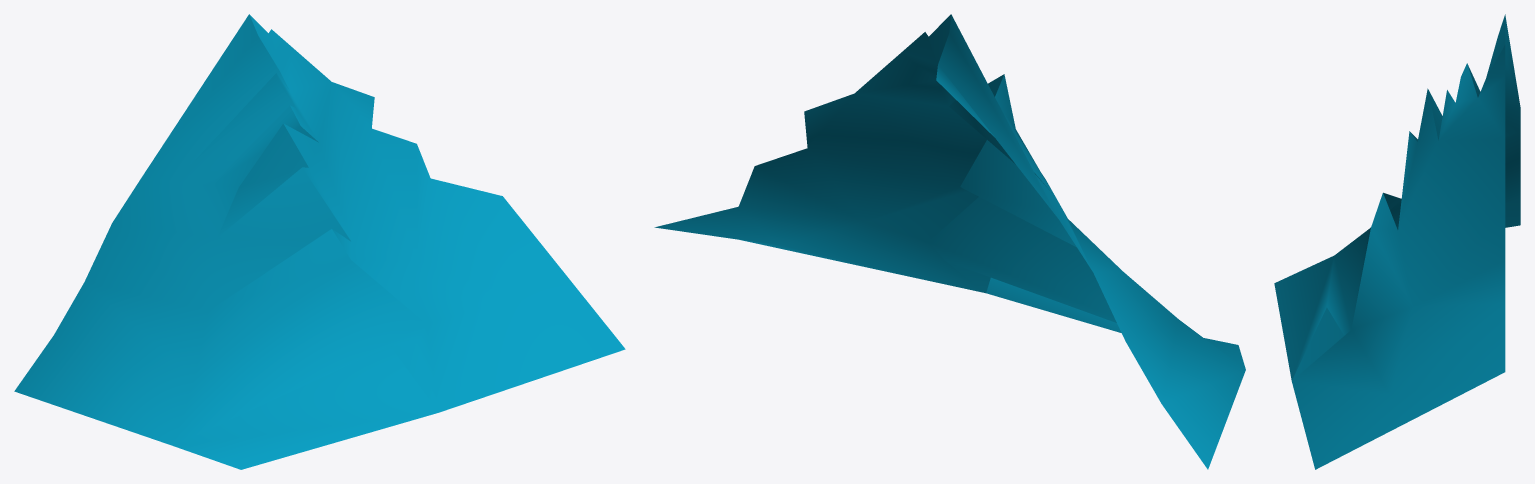
The model's file is mountain_03.fbx.
The picture shows the model from 3 angles, left to right: view 1: azimuth 30°, elevation 25°; view 2: azimuth 150°, elevation 25°; view 3: azimuth 270°, elevation 25°; orthographic projection. The views are drawn at different scales.
Visible parts, largest first — view 1: mountain03_Mesh; view 2: mountain03_Mesh; view 3: mountain03_Mesh.
Boxes of the visible parts, bbox=[...] form: mountain03_Mesh: bbox=[14, 14, 625, 469]; mountain03_Mesh: bbox=[654, 14, 1245, 469]; mountain03_Mesh: bbox=[1274, 14, 1520, 469].
Bounding box in the file's own units: 36.79 × 23.5 × 15.93.
